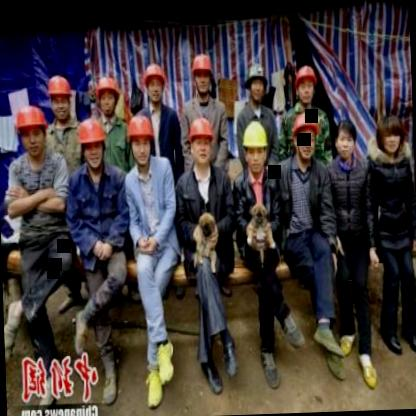helmet: (14, 104, 50, 158), (77, 115, 106, 174), (127, 110, 156, 168), (186, 118, 216, 172), (291, 112, 320, 162), (241, 121, 269, 170), (48, 75, 74, 123), (93, 74, 120, 118), (192, 51, 215, 97), (245, 62, 270, 104), (142, 63, 166, 106), (296, 65, 318, 104)
